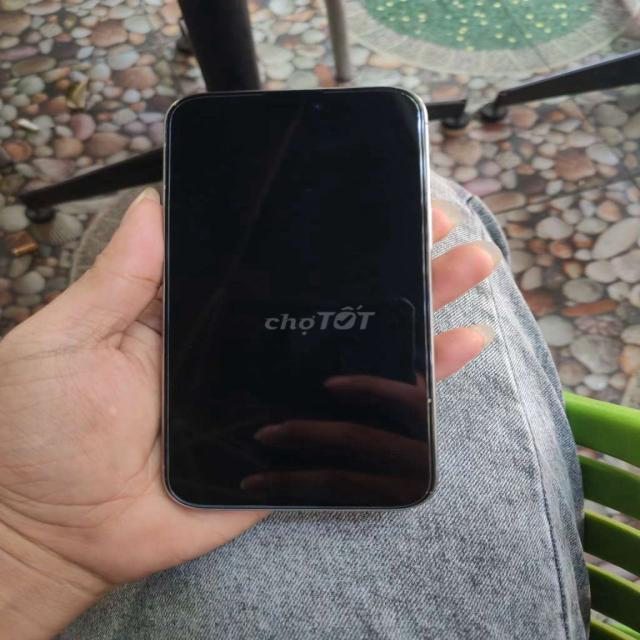gen_15: (135, 75, 463, 540)
